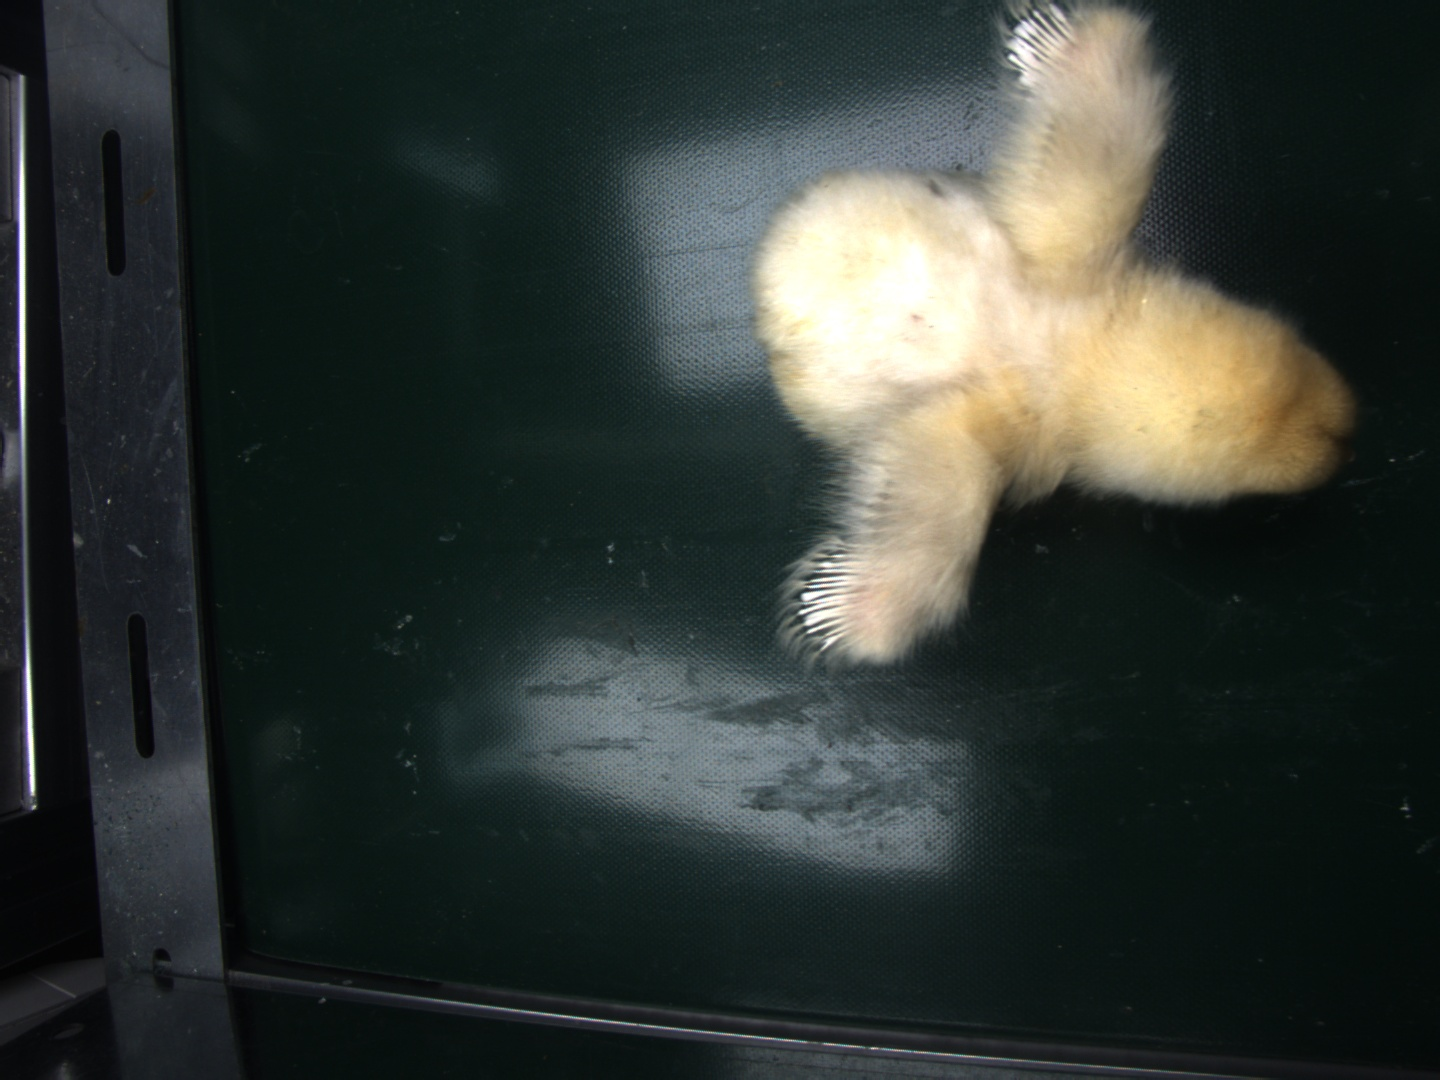male: (801, 548, 859, 652), (1001, 1, 1078, 81)
